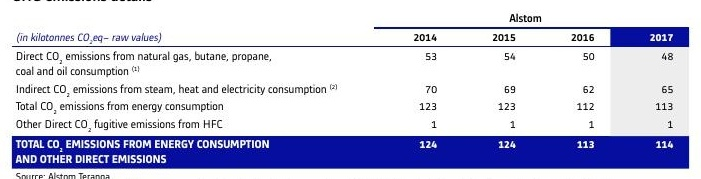table: (0, 0, 701, 179)
